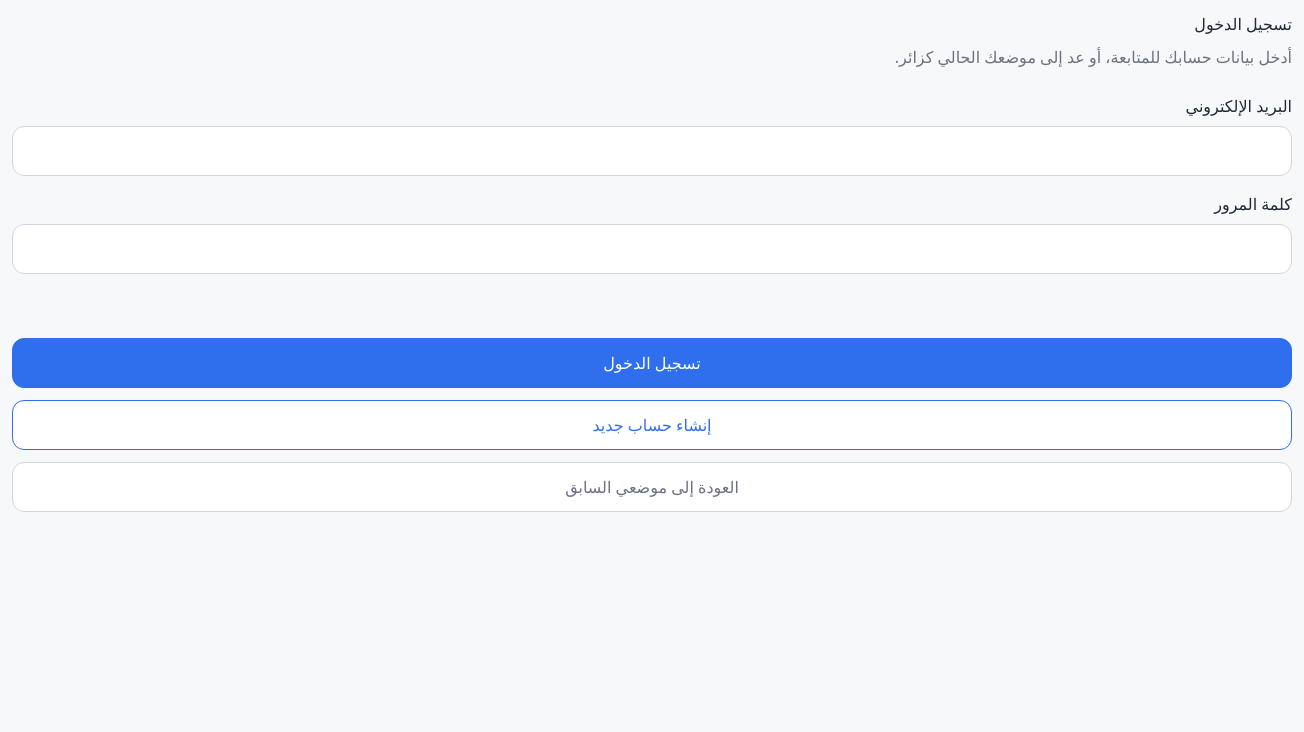
SignInForm › يعرض التلميح العام نفسه لأخطاء invalid_credentials دون كشف السبب
Type "student@example.com" into the field labelled "البريد الإلكتروني" at (652, 151), box [12, 126, 1292, 176]
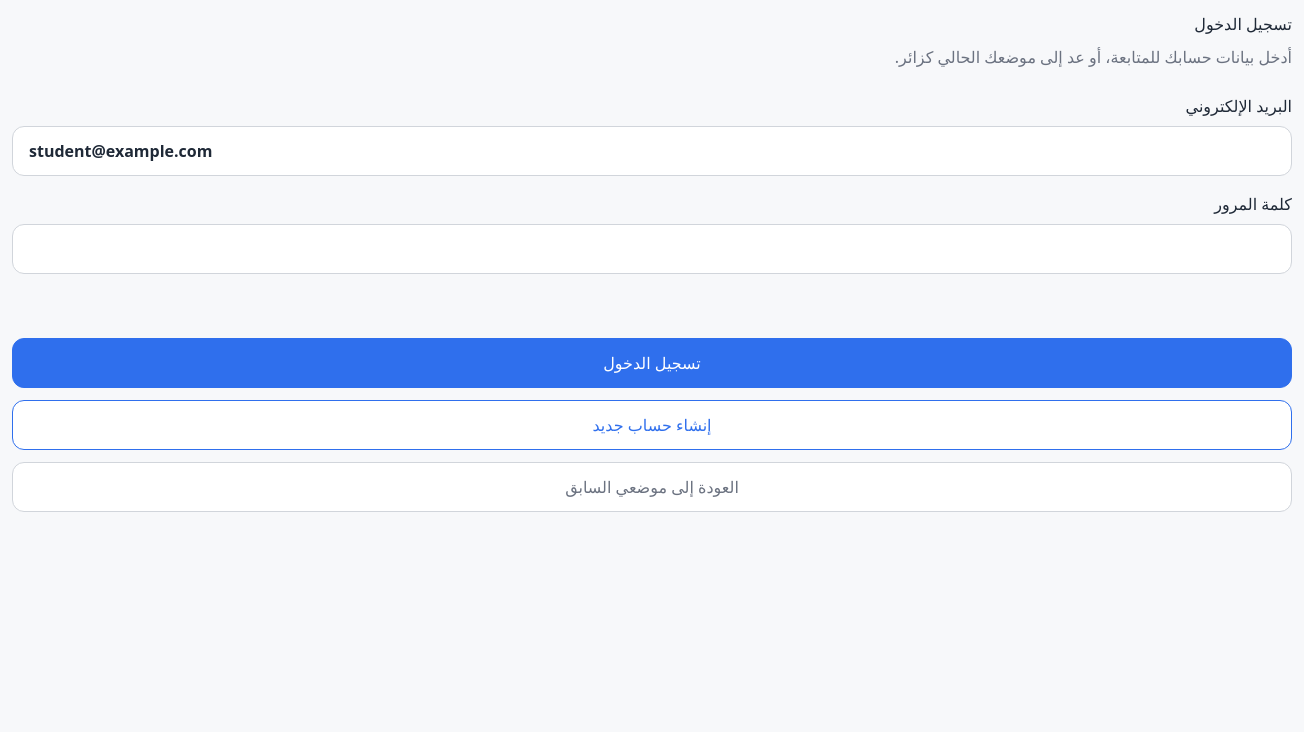
Type "correct-password" into the password field labelled "كلمة المرور" at (652, 249), box [12, 224, 1292, 274]
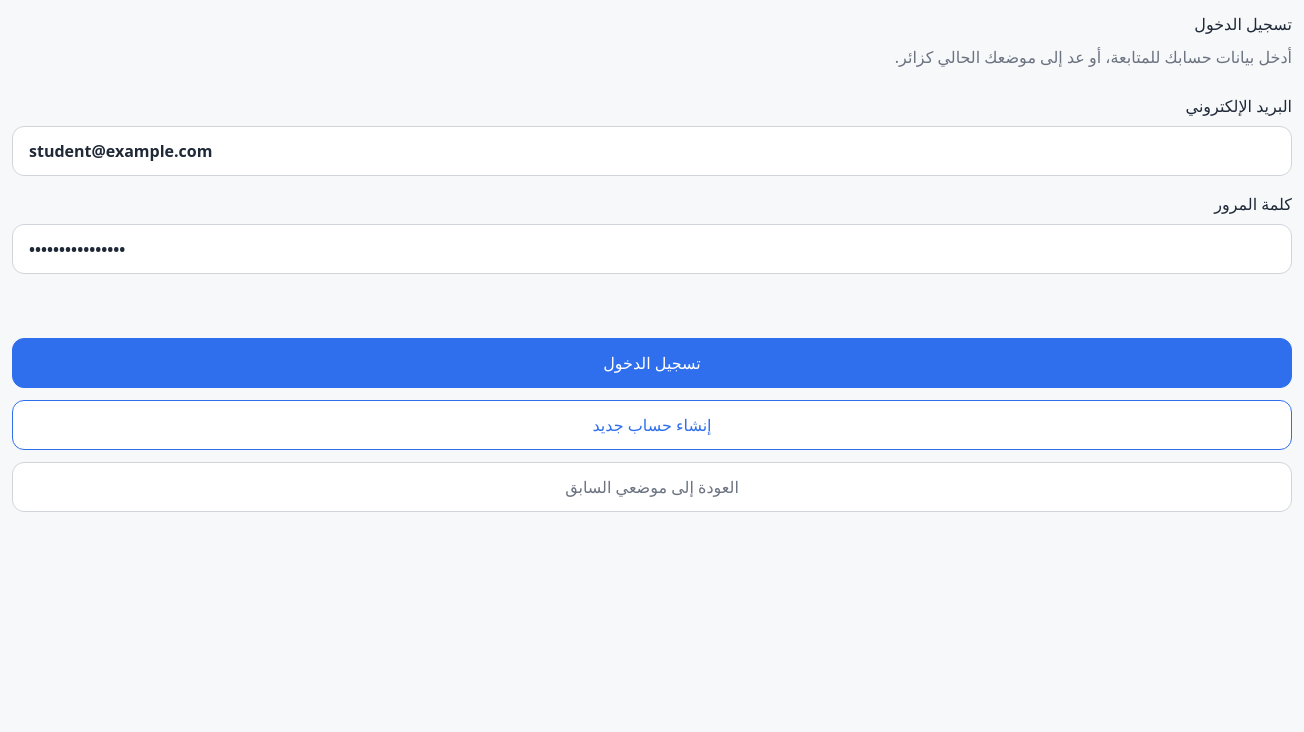
Click the button "تسجيل الدخول" at (652, 363), box [12, 338, 1292, 388]
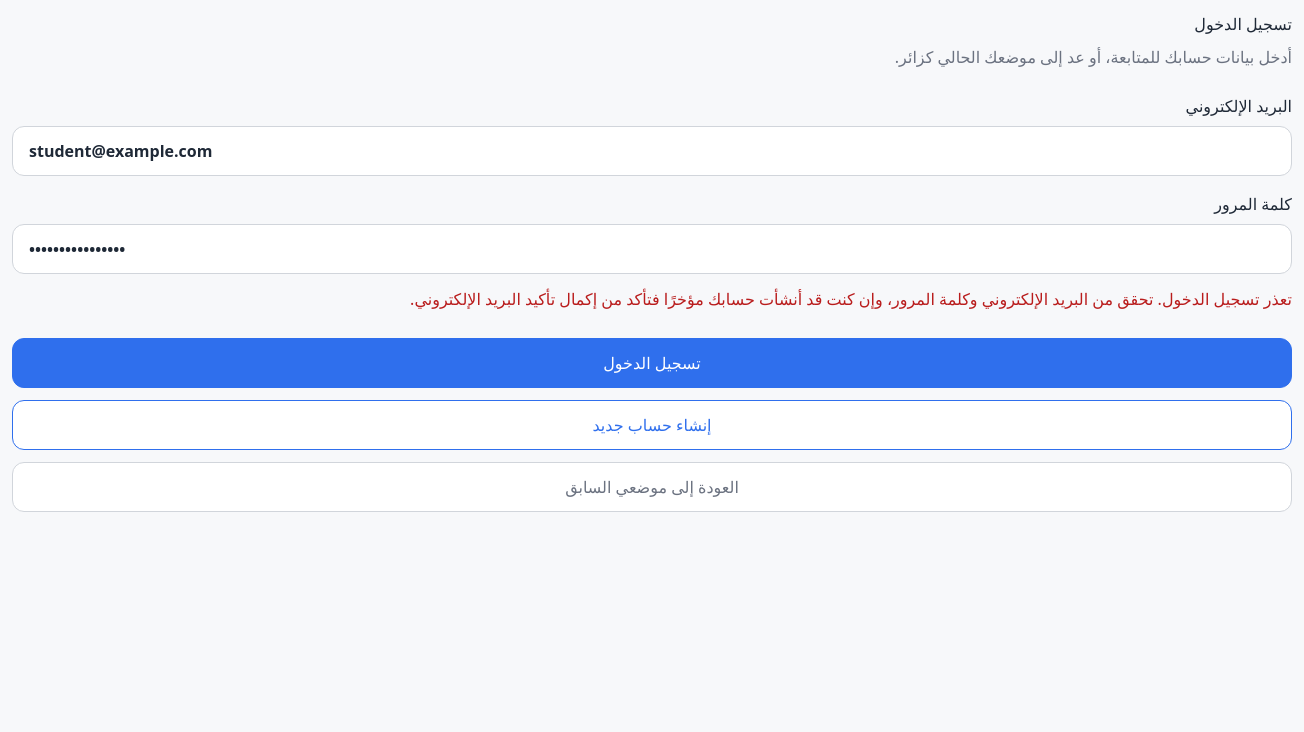
Expected: the message shows "تعذر تسجيل الدخول. تحقق من البريد الإلكتروني وكلمة المرور، وإن كنت قد أنشأت حسابك مؤخرًا فتأكد من إكمال تأكيد البريد الإلكتروني.", [410, 288, 1292, 310]
